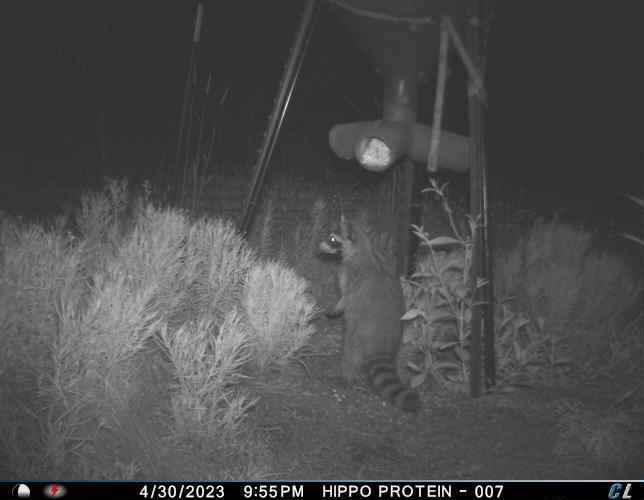Raccoon: (307, 212, 425, 417)
